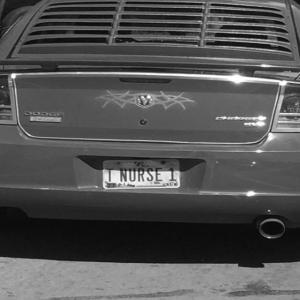Plate: (103, 159, 180, 189)
